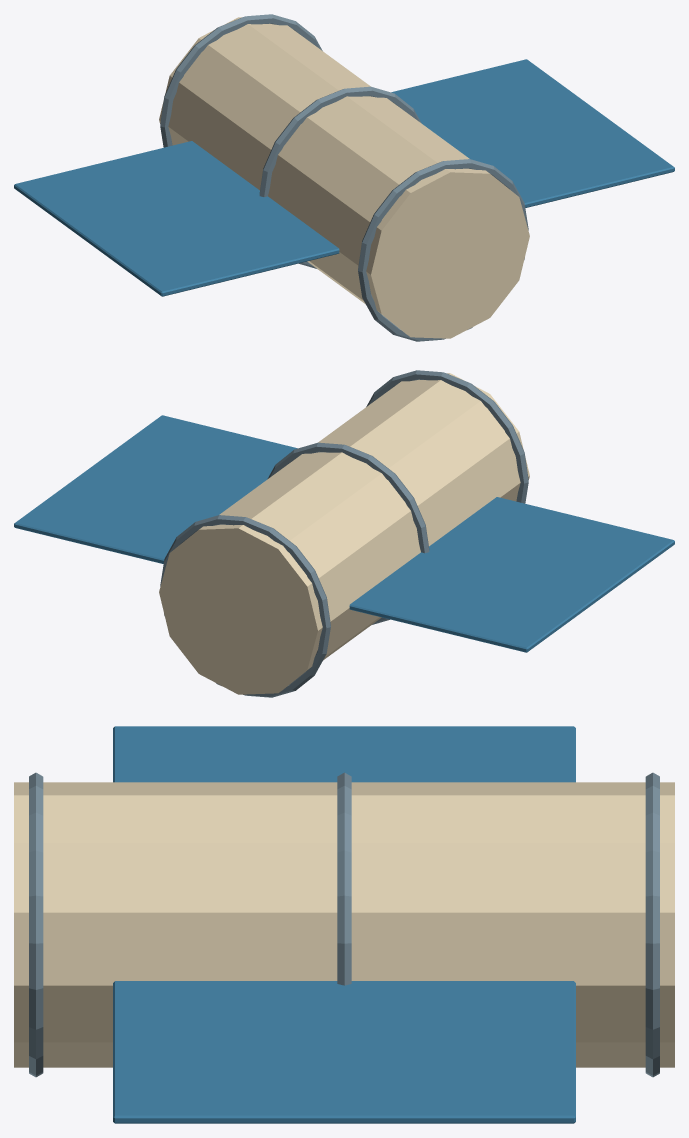
File: space-station-habitat.lod0.glb
3 renders of one model, top to bottom at view 1: azimuth 30°, elevation 25°; view 2: azimuth 150°, elevation 25°; view 3: azimuth 270°, elevation 25°, orthographic. The views are drawn at different scales.
Parts seen in each view (by area): view 1: space-station-habitat__body; view 2: space-station-habitat__body; view 3: space-station-habitat__body.
Boxes of the visible parts, box(x1,y1,x2,y2) form: space-station-habitat__body: box(14, 14, 674, 341); space-station-habitat__body: box(14, 370, 674, 697); space-station-habitat__body: box(14, 726, 674, 1123).
Size of the model in its own units: 8.4 by 2.79 by 6.
